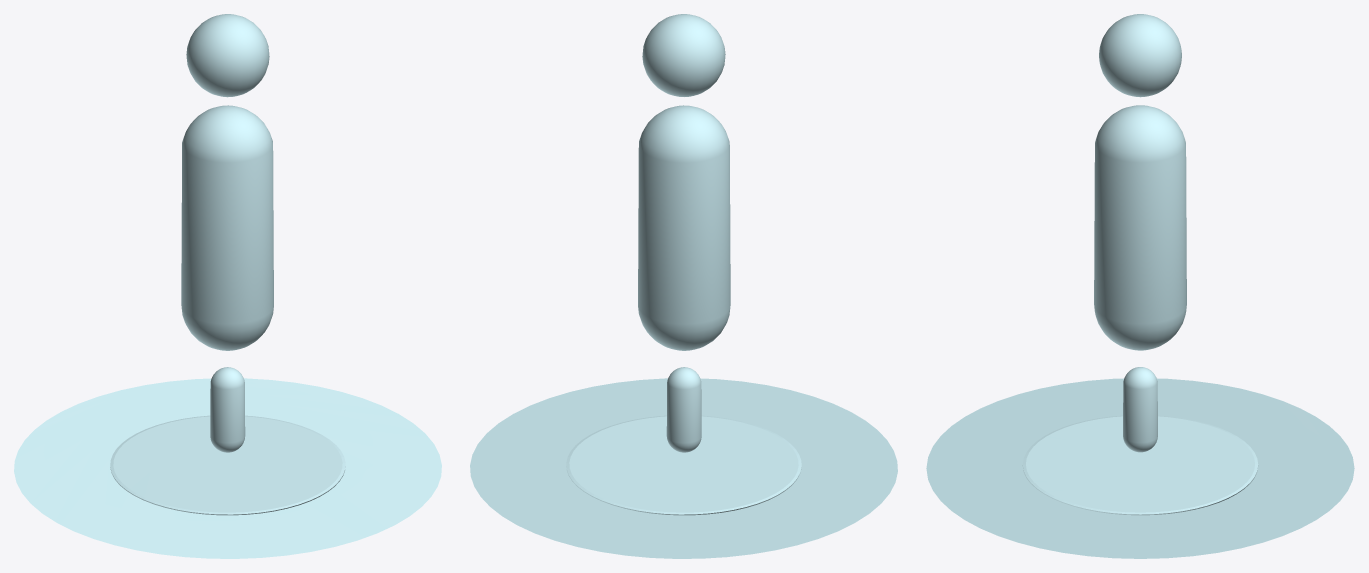
File: pedestrian.glb
The picture shows the model from 3 angles, left to right: view 1: azimuth 30°, elevation 25°; view 2: azimuth 150°, elevation 25°; view 3: azimuth 270°, elevation 25°; orthographic projection.
Parts seen in each view (by area): view 1: pedestrian; view 2: pedestrian; view 3: pedestrian.
Part boxes in pixels (<box>): pedestrian: <box>14,14,441,558</box>; pedestrian: <box>470,14,897,558</box>; pedestrian: <box>926,14,1354,558</box>.
Size of the model in its own units: 0.9466 by 1.1 by 0.9466.
